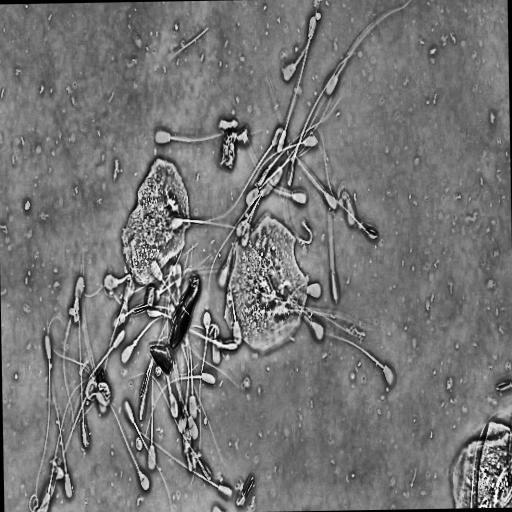dirt-particles: (223, 213, 312, 358), (119, 156, 192, 287), (146, 271, 203, 378), (449, 413, 512, 508), (217, 115, 254, 171), (94, 367, 111, 400), (68, 294, 81, 323), (314, 11, 322, 21)
folded-tail: (104, 275, 132, 375)
loose-tail: (161, 20, 212, 69)
normal: (322, 0, 416, 103), (199, 126, 284, 226), (134, 431, 233, 501), (95, 380, 150, 493), (122, 397, 174, 512), (320, 329, 396, 389), (282, 12, 318, 128), (61, 273, 86, 428), (282, 0, 322, 85), (34, 333, 53, 508), (191, 312, 210, 484), (104, 274, 132, 375), (152, 126, 267, 147), (146, 361, 158, 473)
